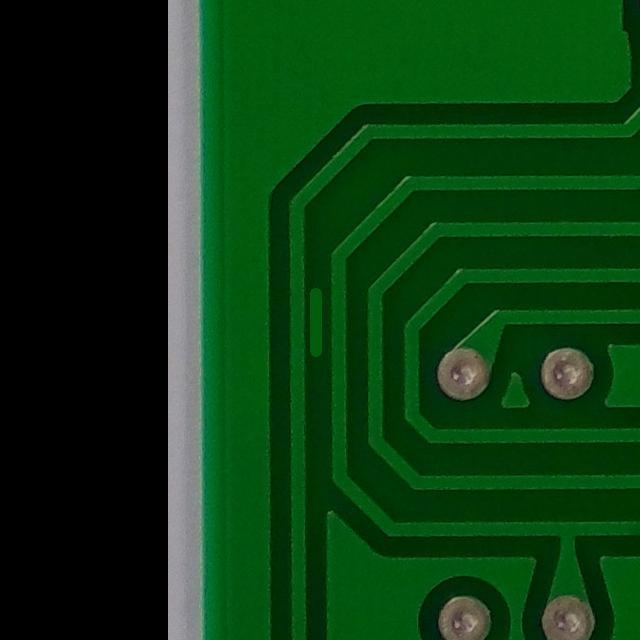spurious_copper: (300, 280, 339, 361)
